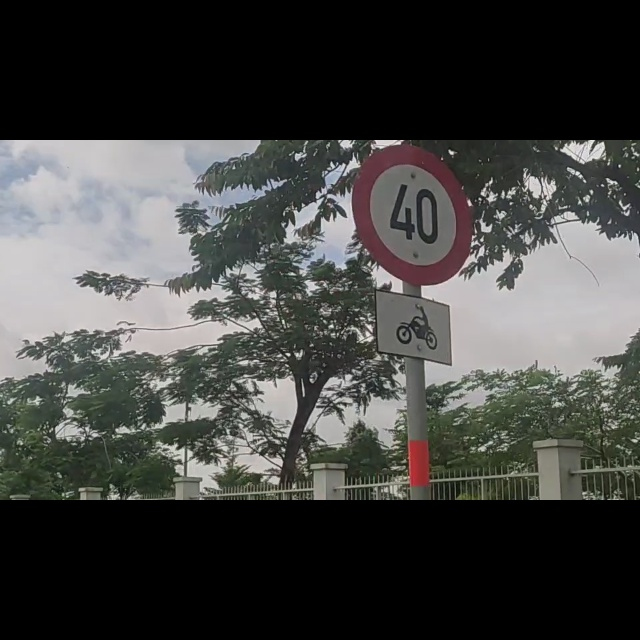Tốc độ tối đa cho phép 40km/h: (351, 142, 478, 287)
